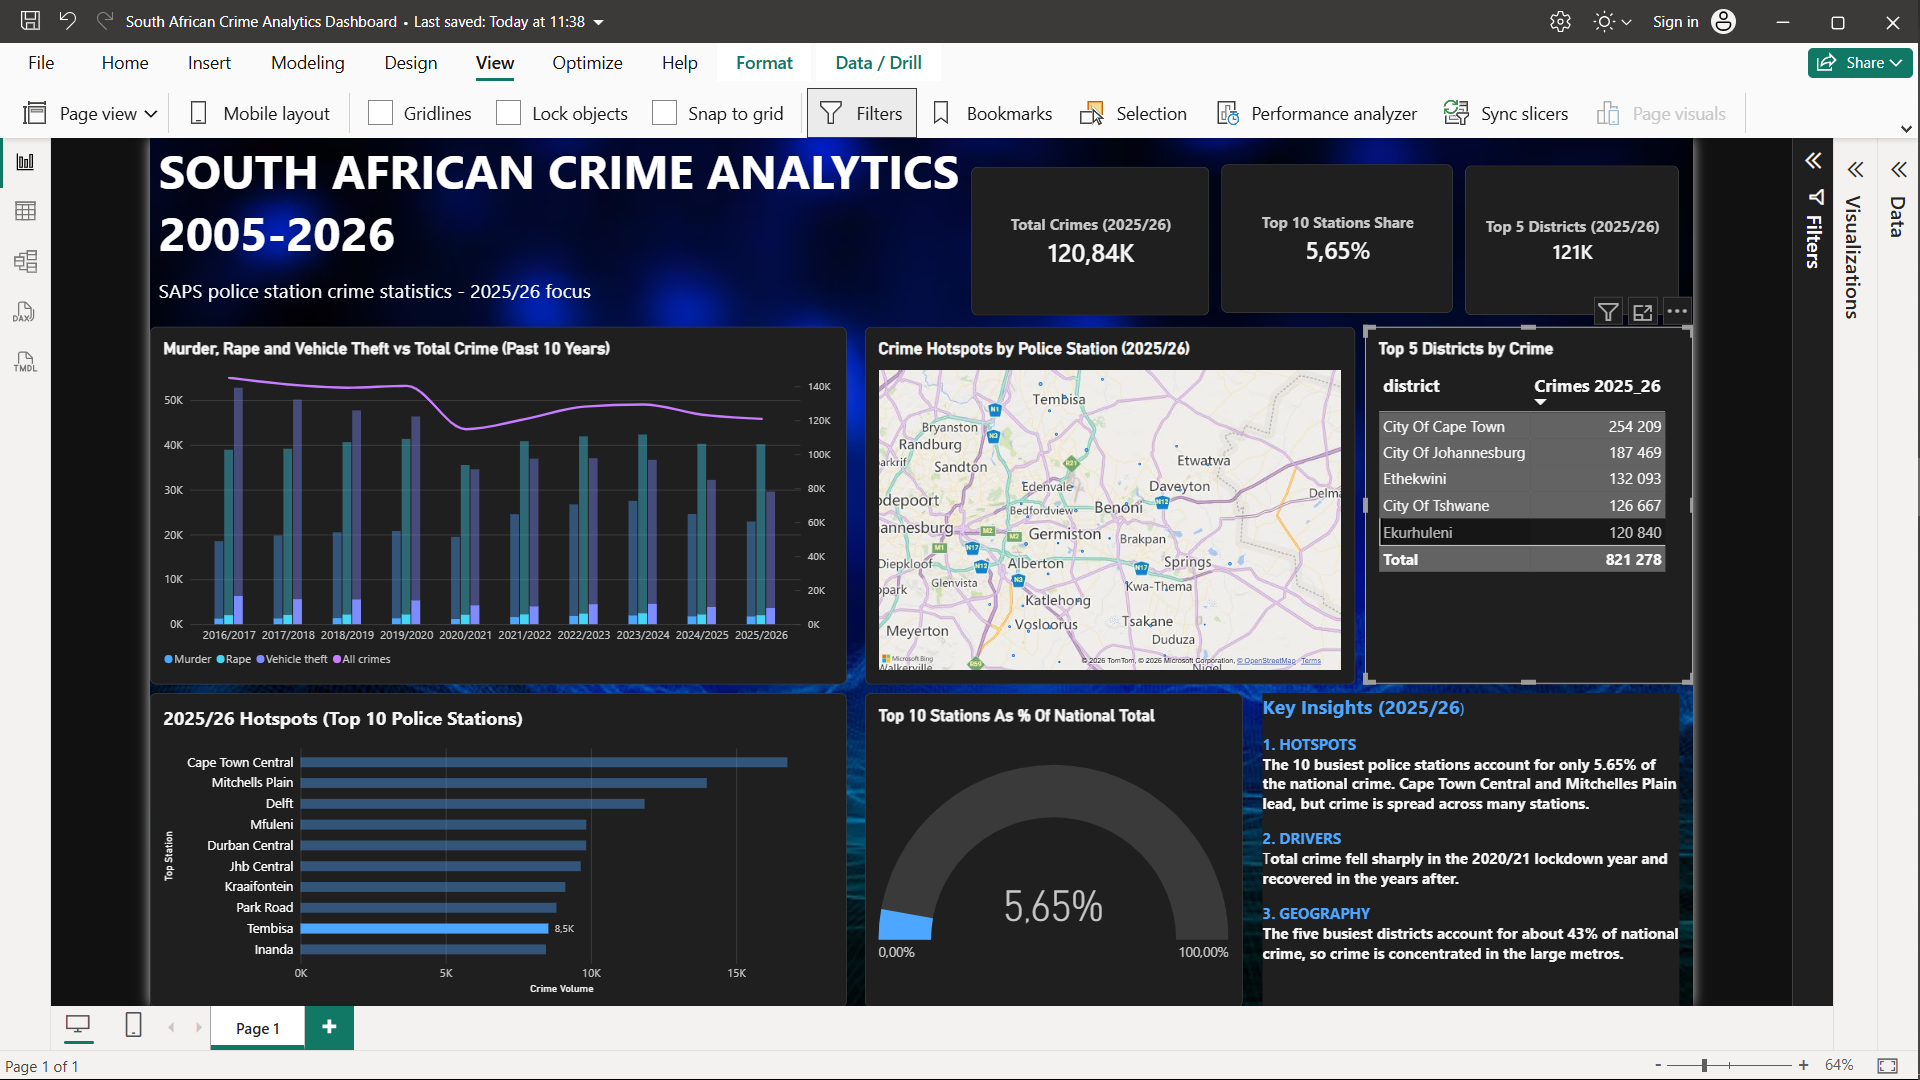

What the dashboard file says about the page in this screenshot:
{"tool":"powerbi","page":{"name":"Page 1","canvas":[1920,1080],"ordinal":0},"visuals":[{"type":"textbox","box":[10.3,0,1321.4,253.2],"z":0},{"type":"group","id":"g1","title":"Group 1","box":[1022,36,296,186],"z":1000},{"type":"clusteredBarChart","title":"2025/26 Hotspots (Top 10 Police Stations)","fields":{"Category":["sapacr-2005-2026-v1 5.station"],"Y":["_Measures.Crimes 2025_26"]},"box":[0,689.5,866.6,391.1],"z":2000},{"type":"cardVisual","fields":{"Data":["_Measures.Crimes 2025_26"]},"box":[1022,36,296.4,185.2],"z":3000,"group":"g1"},{"type":"gauge","title":"Top 10 Stations As % Of National Total","fields":{"Y":["_Measures.Top 10 % Share"]},"box":[889.2,689.5,469.3,391.1],"z":3000},{"type":"lineClusteredColumnComboChart","title":"Murder, Rape and Vehicle Theft vs Total Crime (Past 10 Years)","fields":{"Category":["sapacr-2005-2026-v1 5.year"],"Y":["Sum(sapacr-2005-2026-v1 5.murder)","Sum(sapacr-2005-2026-v1 5.rape)","Sum(sapacr-2005-2026-v1 5.vehicle_theft)"],"Y2":["_Measures.Total Crimes"]},"box":[0,234.6,866.6,444.6],"z":4000},{"type":"map","title":"Crime Hotspots by Police Station (2025/26)","fields":{"Category":["sapacr-2005-2026-v1 5.station"],"Size":["_Measures.Crimes 2025_26"],"X":["Avg(sapacr-2005-2026-v1 5.longitude)"],"Y":["Avg(sapacr-2005-2026-v1 5.latitude)"]},"box":[889.2,234.6,609.3,444.6],"z":5000},{"type":"tableEx","title":"Top 5 Districts by Crime","fields":{"Values":["sapacr-2005-2026-v1 5.district","_Measures.Crimes 2025_26"]},"box":[1510.8,234.6,409.6,444.6],"z":6000},{"type":"cardVisual","fields":{"Data":["_Measures.Top 10 % Share"]},"box":[1332,32,288.2,185.2],"z":7000},{"type":"textbox","box":[1384,690,518,390],"z":8000},{"type":"cardVisual","fields":{"Data":["_Measures.Top 5 Districts"]},"box":[1636,34,266,186],"z":9000}]}

Visuals, with their boxes on the page's 1920x1080 design canvas (x1, y1, x2, y2). These are canvas units, not pixel positions in the 1920x1080 screenshot, which may show the page scaled, cropped or inside an application window:
textbox: BBox(10, 0, 1332, 253)
"Group 1" group: BBox(1022, 36, 1318, 222)
"2025/26 Hotspots (Top 10 Police Stations)" clusteredBarChart: BBox(0, 690, 867, 1081)
cardVisual - _Measures.Crimes 2025_26: BBox(1022, 36, 1318, 221)
"Top 10 Stations As % Of National Total" gauge: BBox(889, 690, 1358, 1081)
"Murder, Rape and Vehicle Theft vs Total Crime (Past 10 Years)" lineClusteredColumnComboChart: BBox(0, 235, 867, 679)
"Crime Hotspots by Police Station (2025/26)" map: BBox(889, 235, 1498, 679)
"Top 5 Districts by Crime" tableEx: BBox(1511, 235, 1920, 679)
cardVisual - _Measures.Top 10 % Share: BBox(1332, 32, 1620, 217)
textbox: BBox(1384, 690, 1902, 1080)
cardVisual - _Measures.Top 5 Districts: BBox(1636, 34, 1902, 220)
